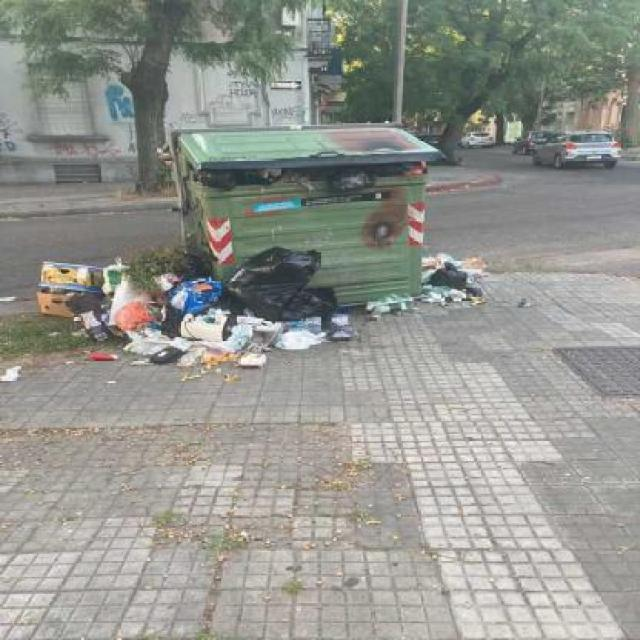garbage: (34, 253, 428, 372), (186, 163, 479, 210), (430, 243, 546, 324)
